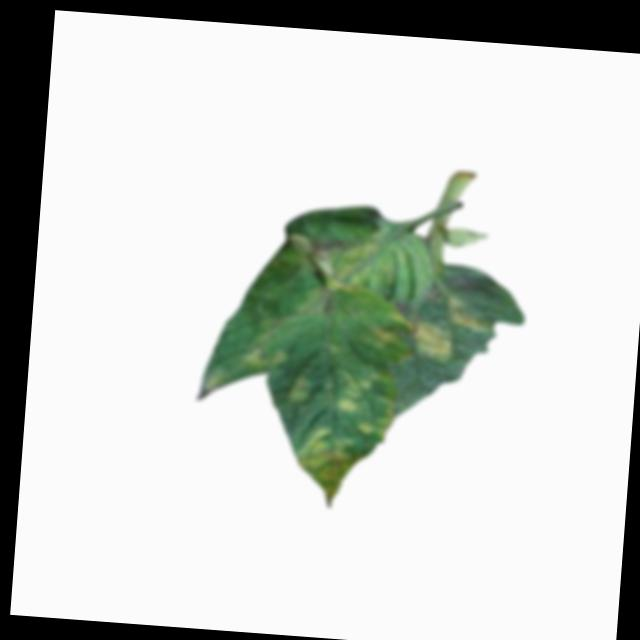Leaf_Mold: (293, 426, 367, 510), (410, 295, 492, 366), (330, 237, 390, 291), (245, 321, 293, 377), (338, 368, 375, 415), (362, 323, 404, 357)
